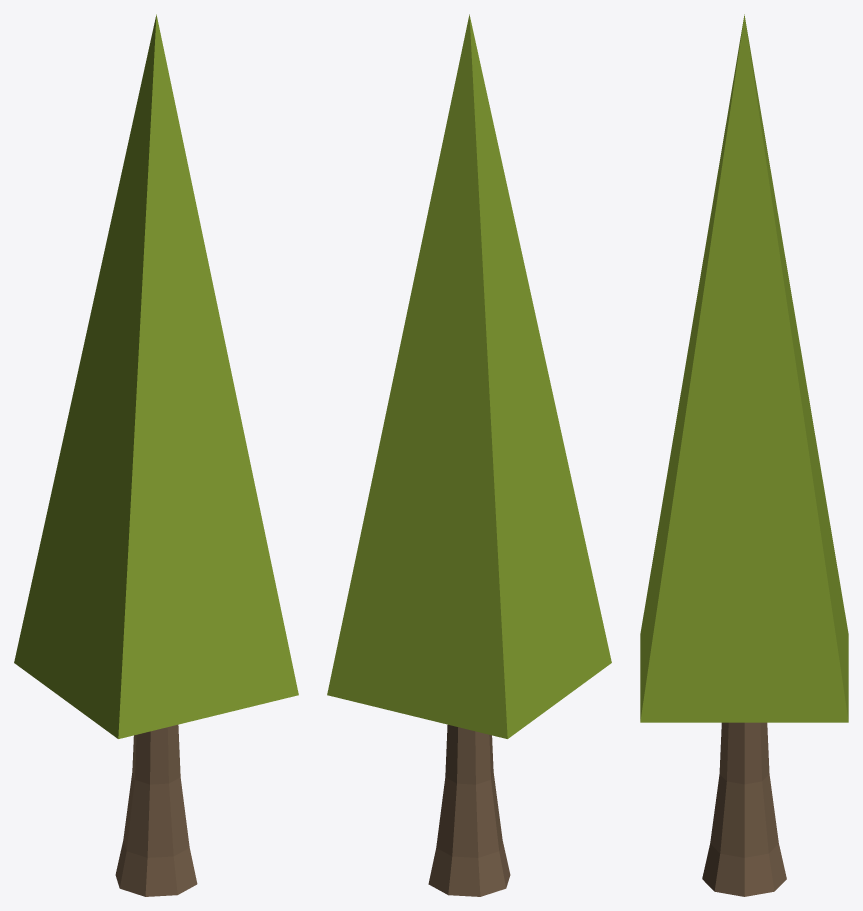
Rendered from NHP_Tree_LP_E1_7m_01.fbx.
3 renders of one model, left to right at view 1: azimuth 30°, elevation 25°; view 2: azimuth 150°, elevation 25°; view 3: azimuth 270°, elevation 25°, orthographic.
Parts seen in each view (by area): view 1: NHP_Tree_LP_E1_7m_01; view 2: NHP_Tree_LP_E1_7m_01; view 3: NHP_Tree_LP_E1_7m_01.
Part boxes in pixels (left/top/right/bottom): NHP_Tree_LP_E1_7m_01: left=14, top=14, right=298, bottom=896; NHP_Tree_LP_E1_7m_01: left=327, top=14, right=611, bottom=896; NHP_Tree_LP_E1_7m_01: left=640, top=14, right=848, bottom=896.
Bounding box in the file's own units: 1.59 × 7.27 × 1.59.
